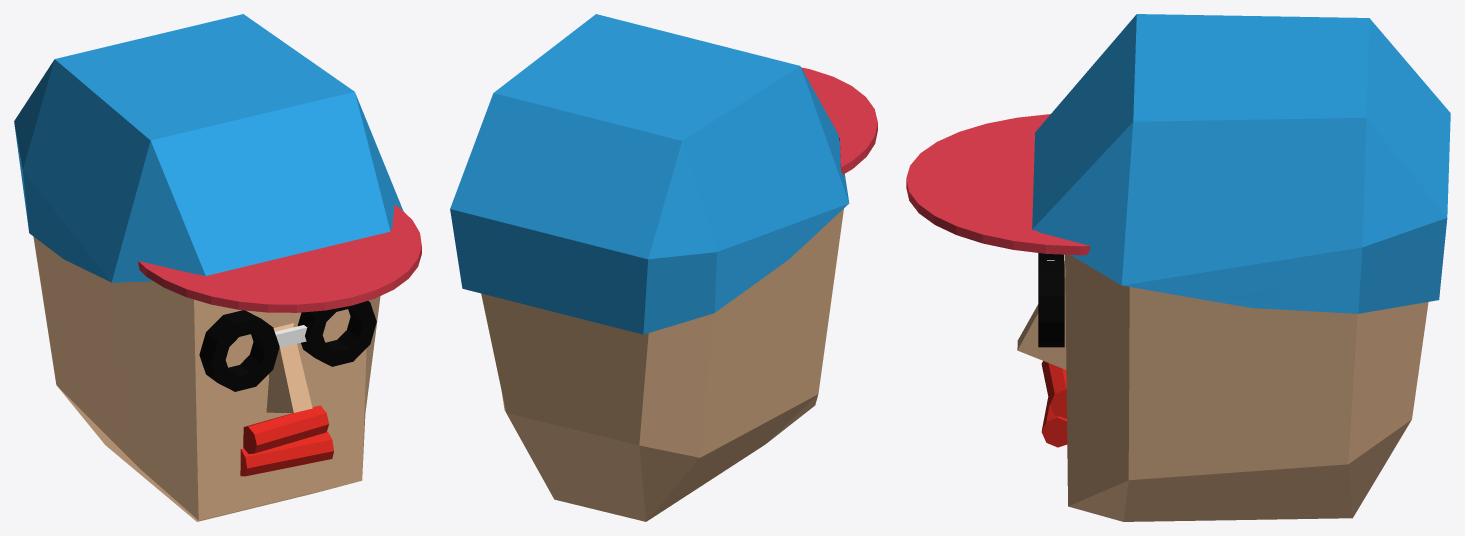
3 views of the same model, side by side, from view 1: azimuth 30°, elevation 25°; view 2: azimuth 150°, elevation 25°; view 3: azimuth 270°, elevation 25° (orthographic). The views are drawn at different scales.
Visible parts, largest first — view 1: cap, head, glassR, glassL, lipTop, nose, lipBottom, glassFrame; view 2: cap, head; view 3: cap, head, glassL, nose, lipTop, lipBottom.
Part boxes in pixels (x1,y1,x2,y2): cap: (14,14,421,312); head: (33,236,380,521); glassR: (199,310,279,391); glassL: (297,301,376,366); lipTop: (243,405,328,453); nose: (266,323,312,412); lipBottom: (240,431,333,476); glassFrame: (275,325,307,347); cap: (450,14,877,334); head: (481,209,843,521); cap: (906,14,1450,313); head: (1065,254,1428,521); glassL: (1038,261,1064,347); nose: (1017,265,1066,369); lipTop: (1041,361,1066,418); lipBottom: (1041,397,1067,447).
Size of the model in its own units: 0.4192 by 0.5393 by 0.62.
